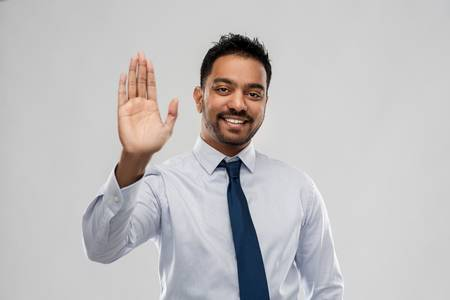F_shirt: (83, 133, 344, 300)
F_tie: (211, 151, 266, 300)
